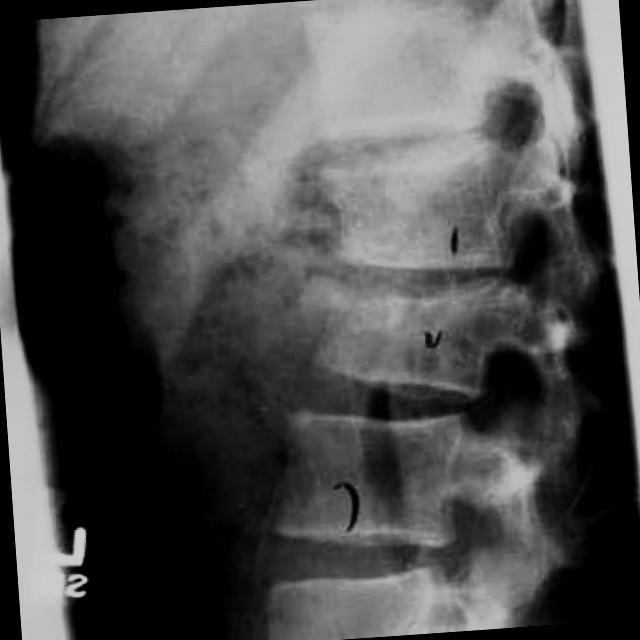Compression-Crush Fracutre: (294, 336, 482, 446)
